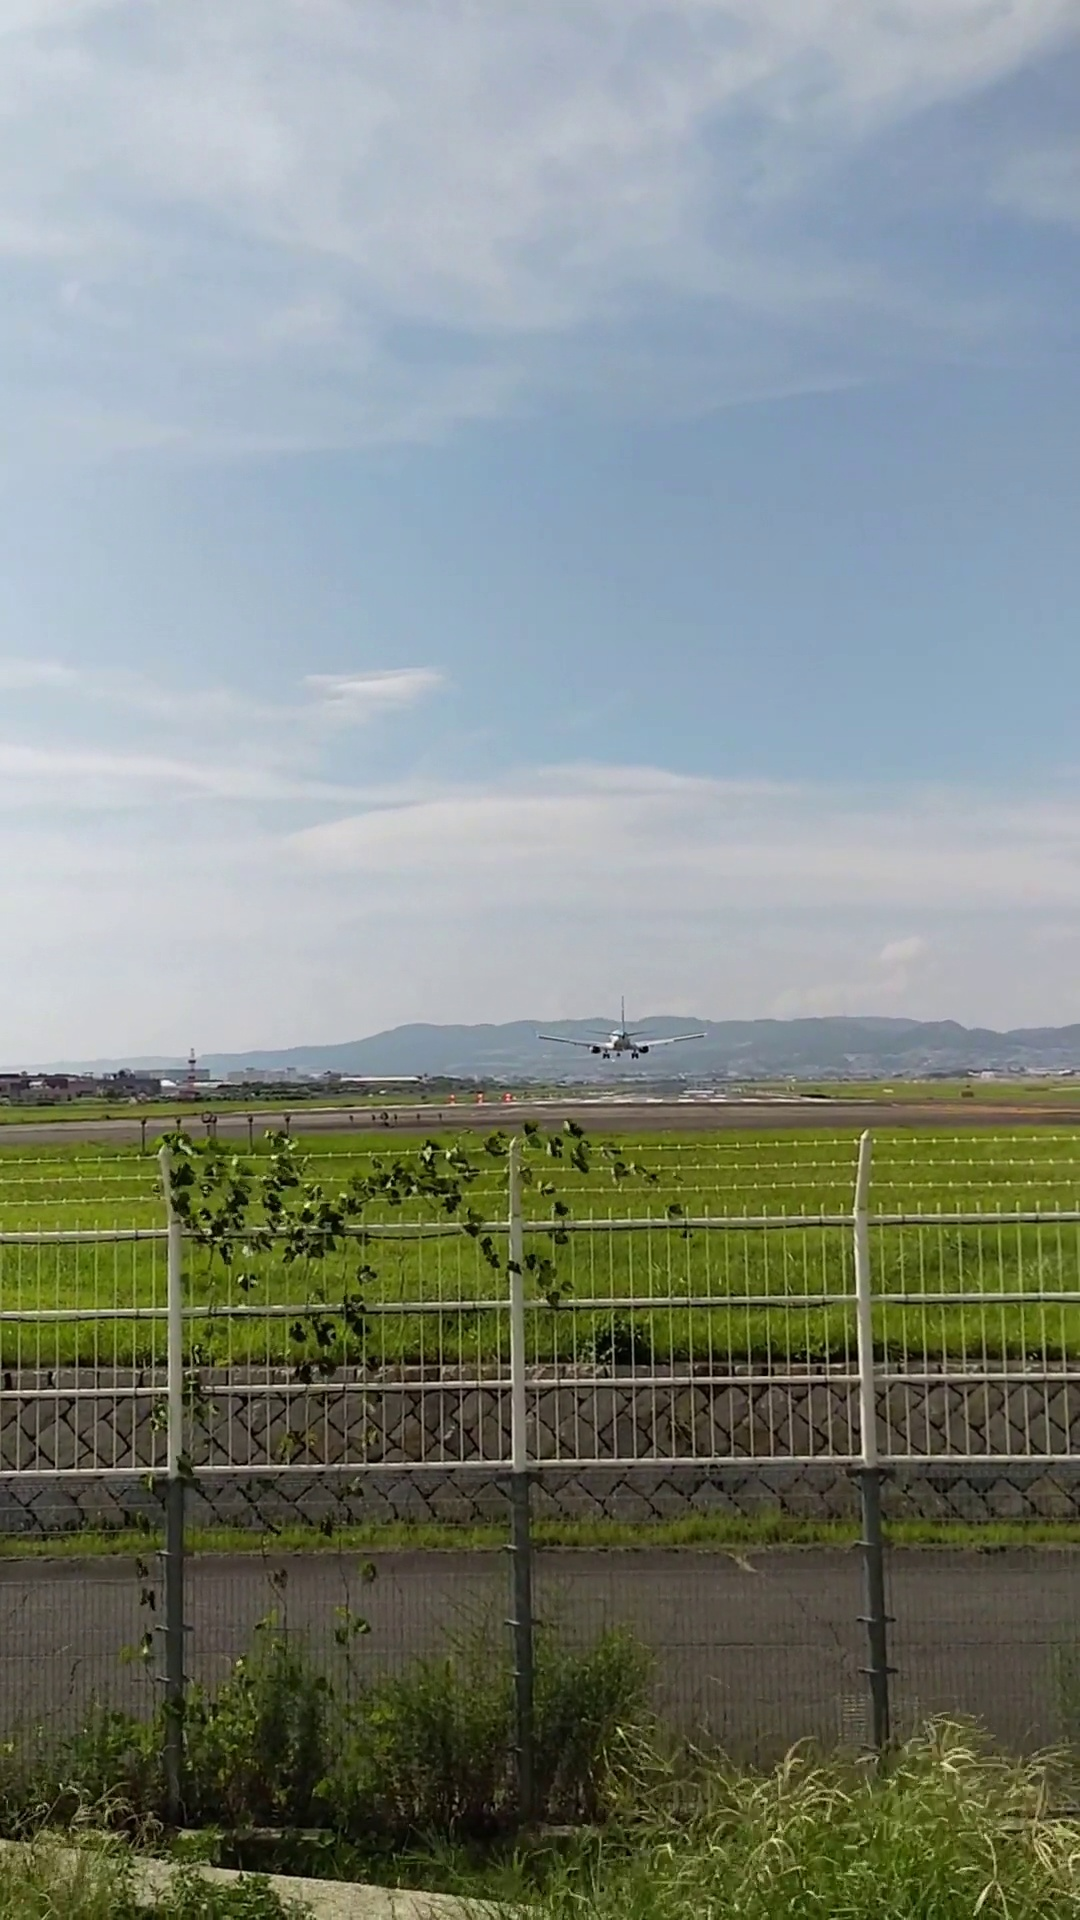plane: (534, 996, 705, 1059)
